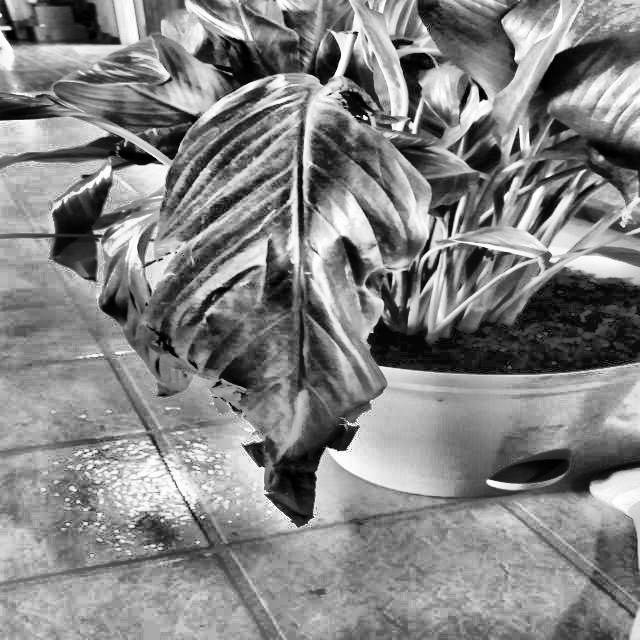plants: (21, 0, 640, 525), (223, 84, 424, 528), (90, 182, 228, 430)
